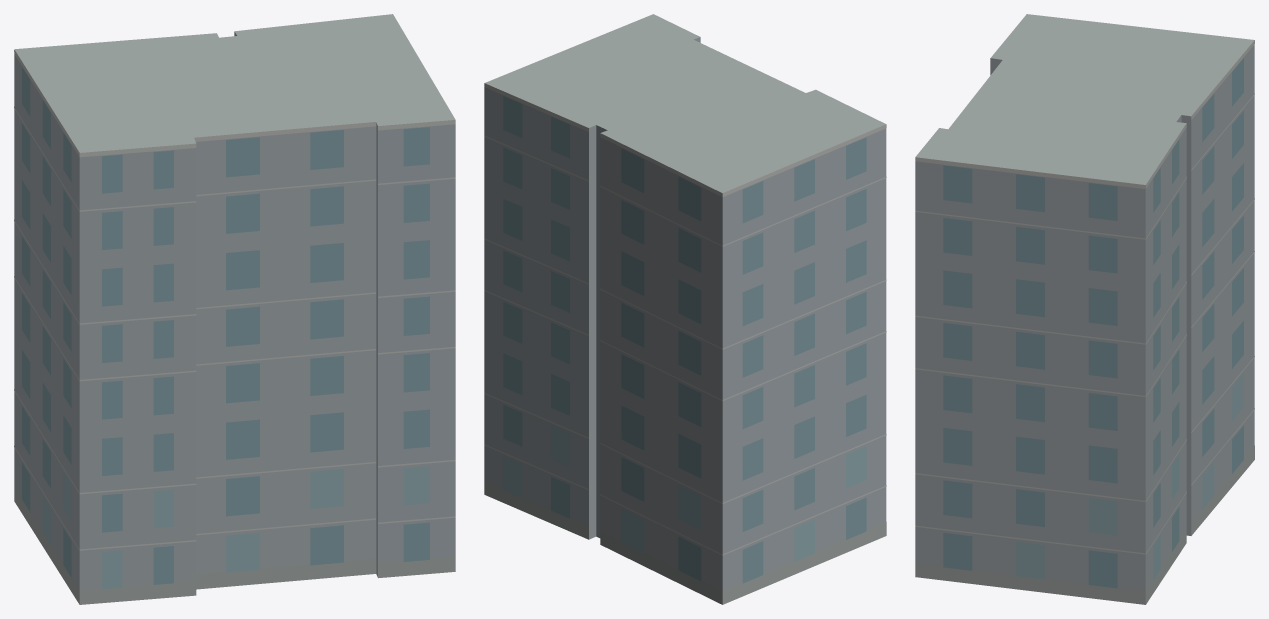
Rendered from survey-upis-32872838.glb.
3 views of the same model, side by side, from view 1: azimuth 30°, elevation 25°; view 2: azimuth 150°, elevation 25°; view 3: azimuth 270°, elevation 25° (orthographic). The views are drawn at different scales.
Parts seen in each view (by area): view 1: survey-upis-32872838.tmp; view 2: survey-upis-32872838.tmp; view 3: survey-upis-32872838.tmp.
Part boxes in pixels (bbox=[...]): survey-upis-32872838.tmp: bbox=[14, 14, 455, 604]; survey-upis-32872838.tmp: bbox=[484, 14, 886, 604]; survey-upis-32872838.tmp: bbox=[915, 14, 1254, 604].
Bounding box in the file's own units: 21.83 × 24.95 × 18.31.
